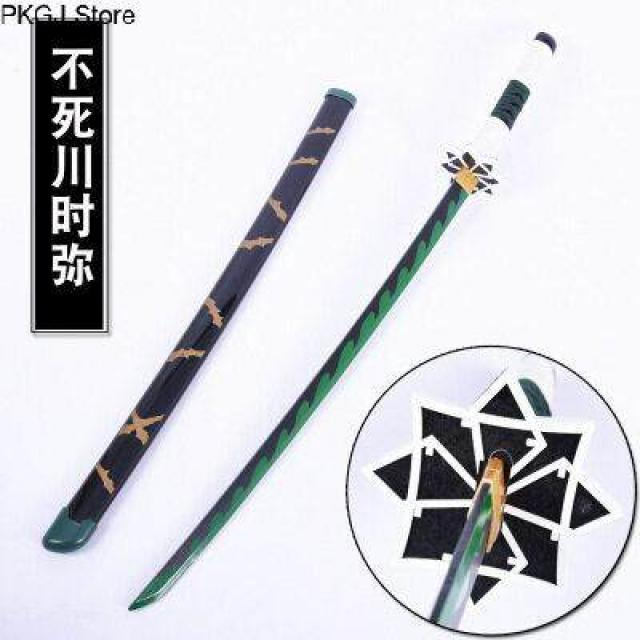long sword: (127, 26, 558, 602)
